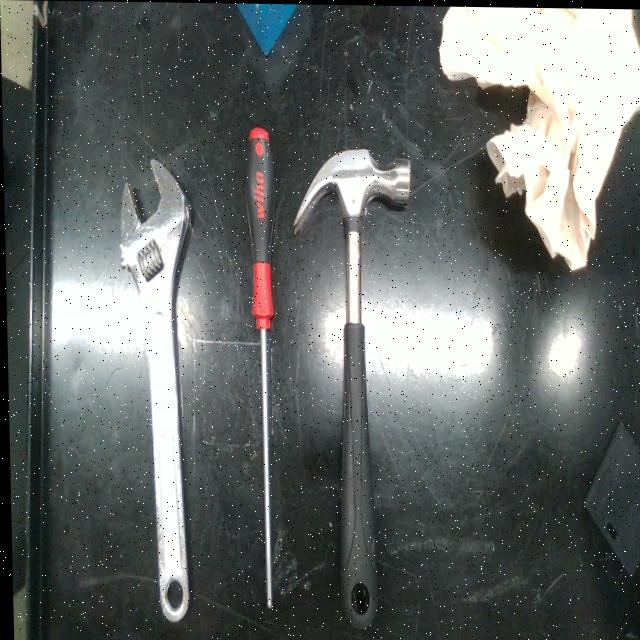Screwdriver: (245, 127, 274, 607)
